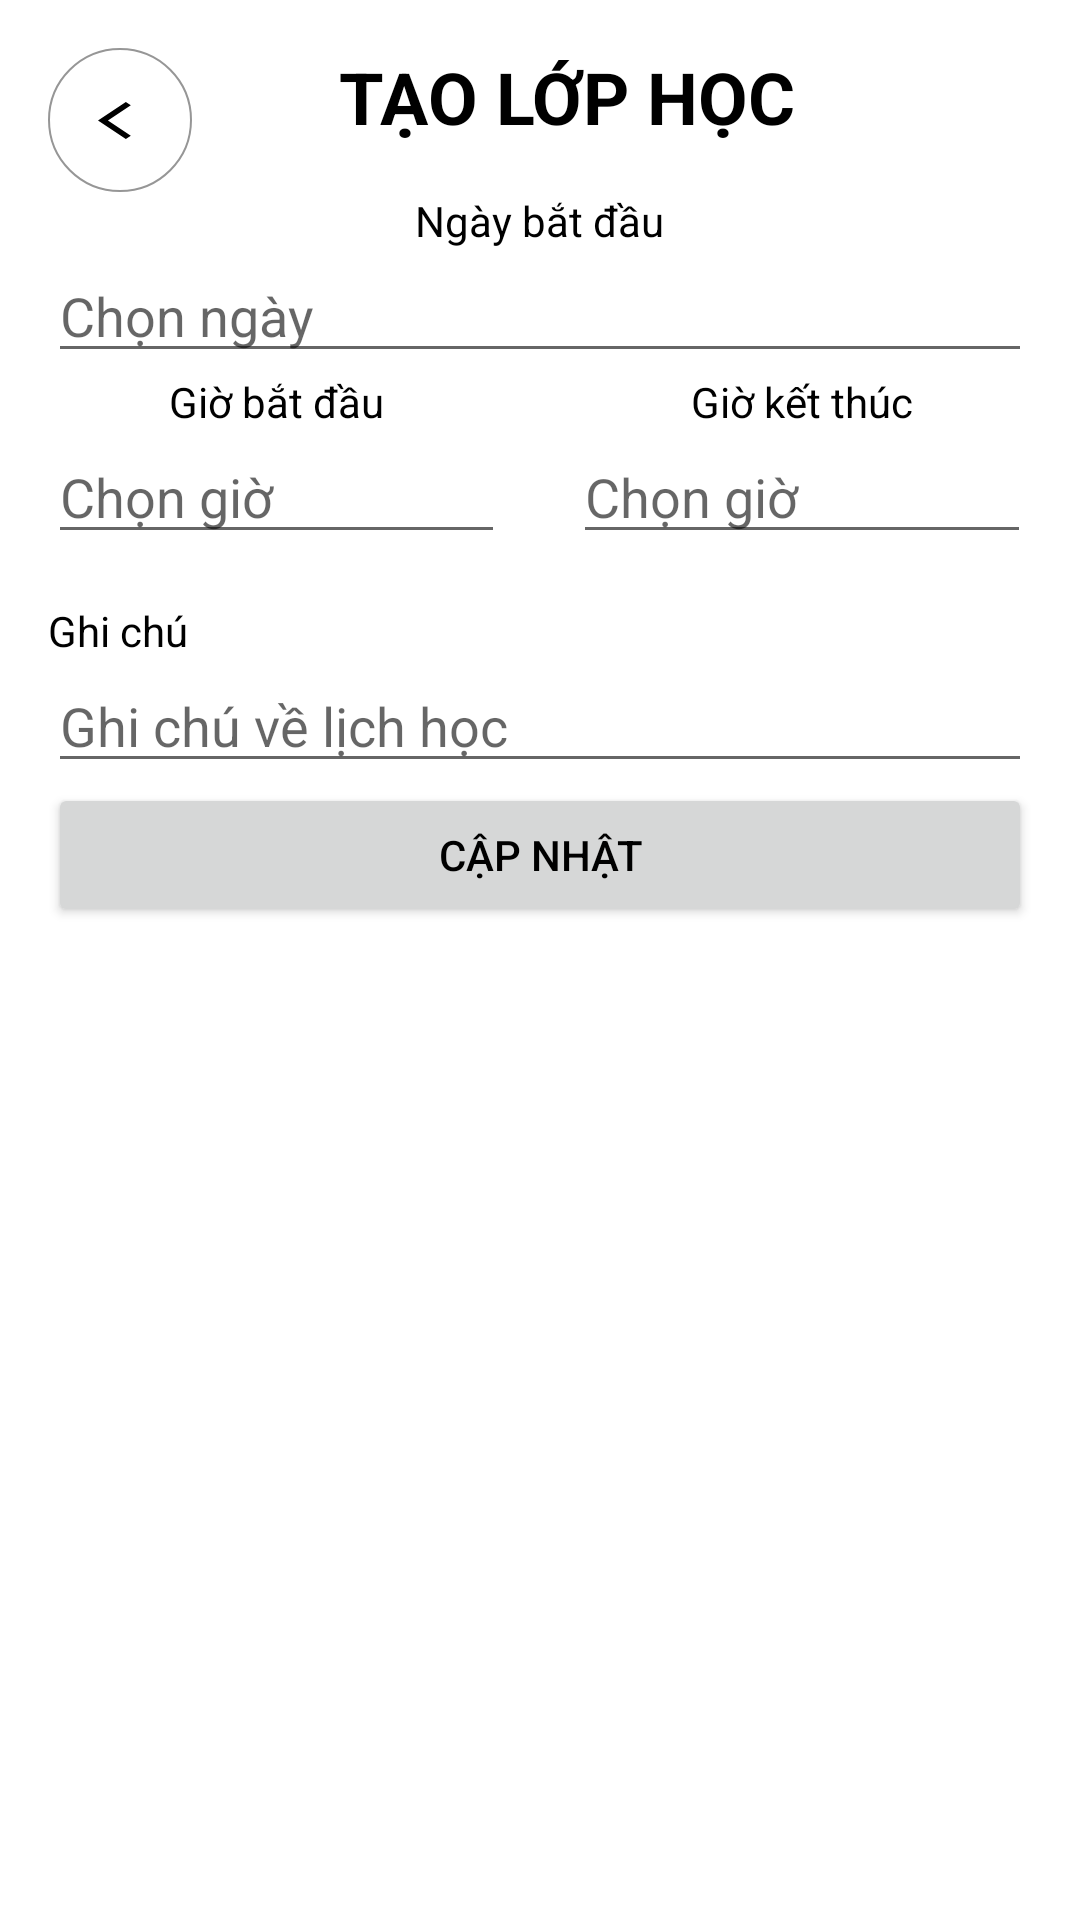

Where to tap for icons on this 1080 x 1920 app screen, as (x,y):
back1: (120,120)
